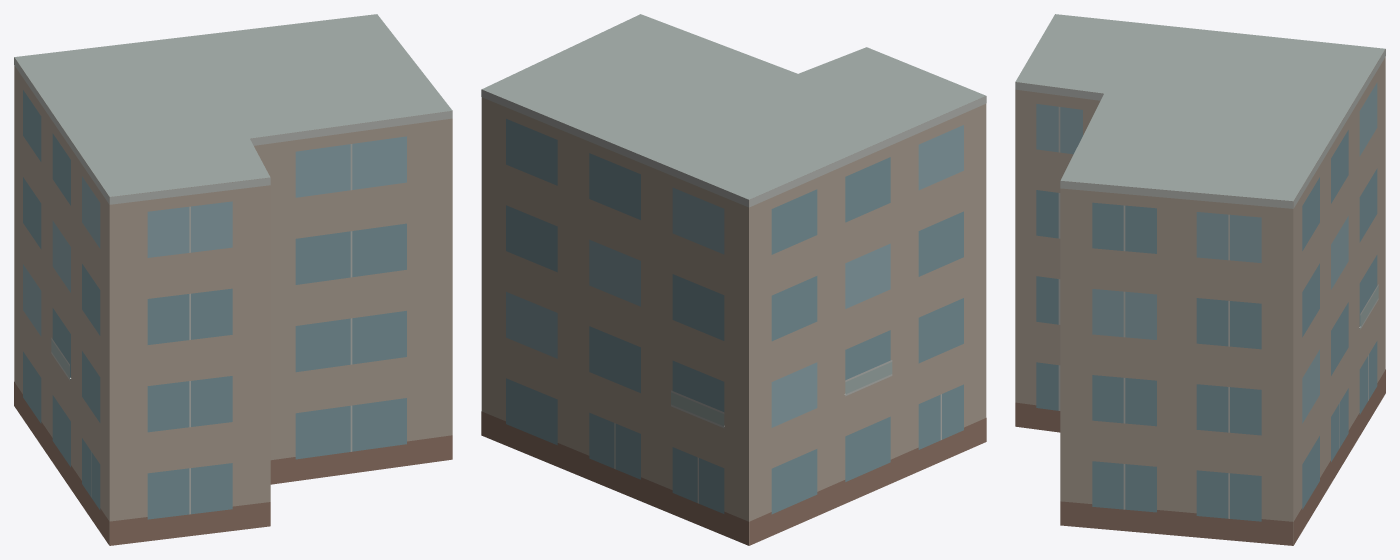
File: survey-upis-32879348.glb
3 renders of one model, left to right at view 1: azimuth 30°, elevation 25°; view 2: azimuth 150°, elevation 25°; view 3: azimuth 270°, elevation 25°, orthographic.
Visible parts, largest first — view 1: survey-upis-32879348.tmp; view 2: survey-upis-32879348.tmp; view 3: survey-upis-32879348.tmp.
Part boxes in pixels (left/top/right/bottom): survey-upis-32879348.tmp: left=14, top=14, right=452, bottom=545; survey-upis-32879348.tmp: left=481, top=14, right=986, bottom=545; survey-upis-32879348.tmp: left=1015, top=14, right=1385, bottom=545.
Bounding box in the file's own units: 12.71 × 10.9 × 10.63.
